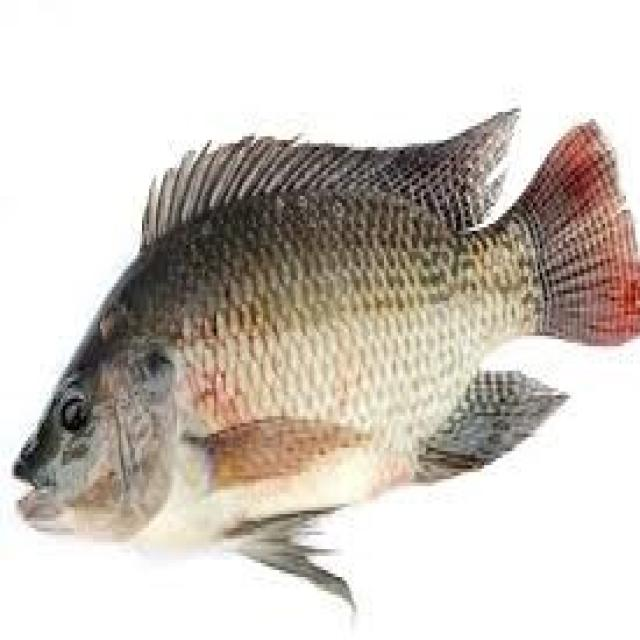ikan: (9, 88, 624, 588)
